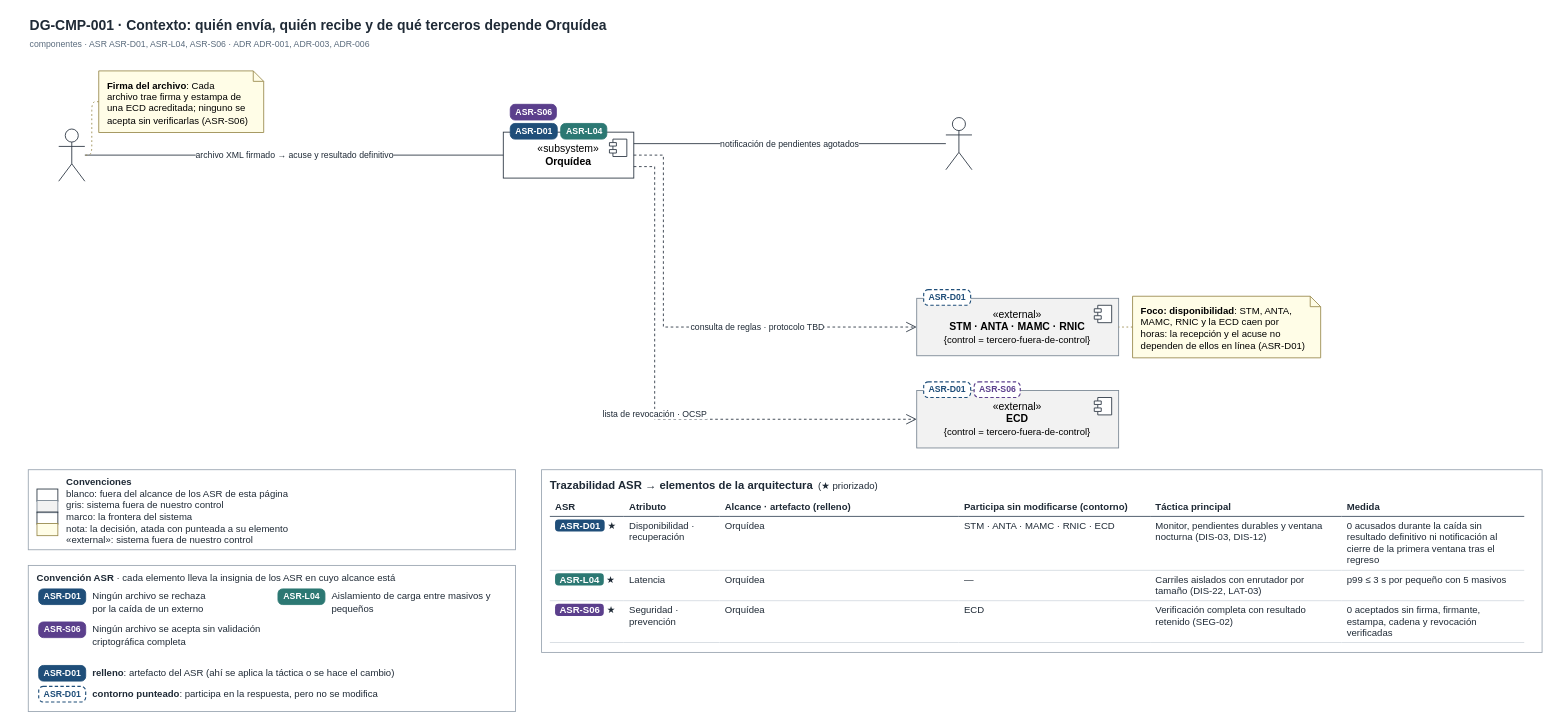
Image size: 1557x726. Some labels were removed from this diagram. The centre of each missing label's shape, as x and y in pixels:
"Operador de BCR" goes at point (958, 143).
"Remitente (IMC o titular)" goes at point (71, 154).
